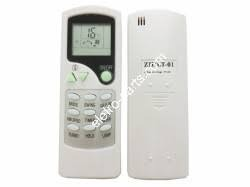remote control: (62, 10, 122, 178)
